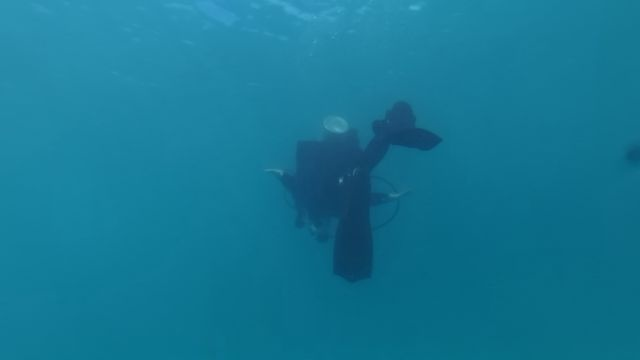Diver: (258, 90, 446, 290)
Hand: (260, 160, 290, 186), (385, 186, 413, 207)
